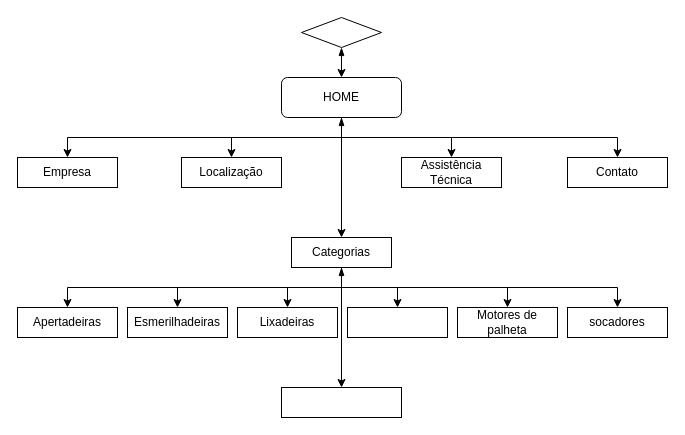
Image size: 685x435. Some labels were removed from this diagram. The shapes that lost their labels are listed below. From the top down, each one's centre as x and y in pixels, then its label:
At (341,32): "Cadastro".
At (397,322): "Marteletes".
At (341,402): "Folhas de Instrução".
